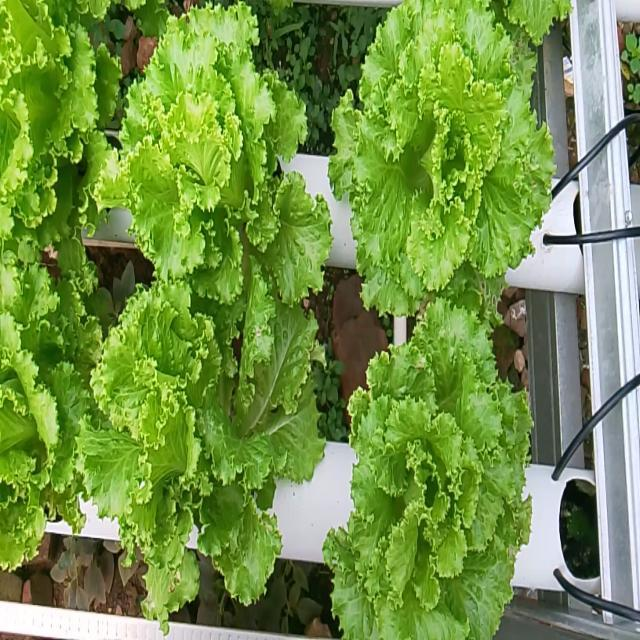Mature: (75, 279, 338, 636), (336, 276, 554, 636), (89, 15, 345, 319), (341, 9, 578, 319)
